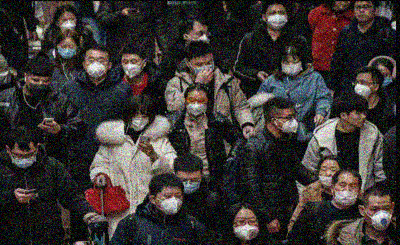mask_weared_incorrect: (318, 165, 339, 188)
with_mask: (366, 203, 392, 231), (232, 215, 260, 241), (155, 191, 184, 216), (332, 180, 358, 207), (185, 95, 208, 118), (86, 56, 109, 79), (190, 59, 215, 80), (9, 150, 37, 168), (176, 174, 201, 194), (27, 76, 51, 96), (121, 57, 142, 79), (266, 10, 287, 30), (188, 29, 211, 47), (281, 112, 299, 134), (130, 112, 149, 132), (281, 59, 303, 76), (354, 77, 370, 99), (58, 42, 76, 60), (59, 16, 77, 31), (378, 71, 392, 89)
without_mask: (353, 3, 373, 23), (349, 110, 366, 127)
